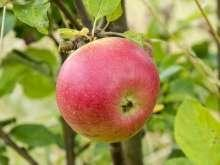apple: (52, 36, 161, 142)
